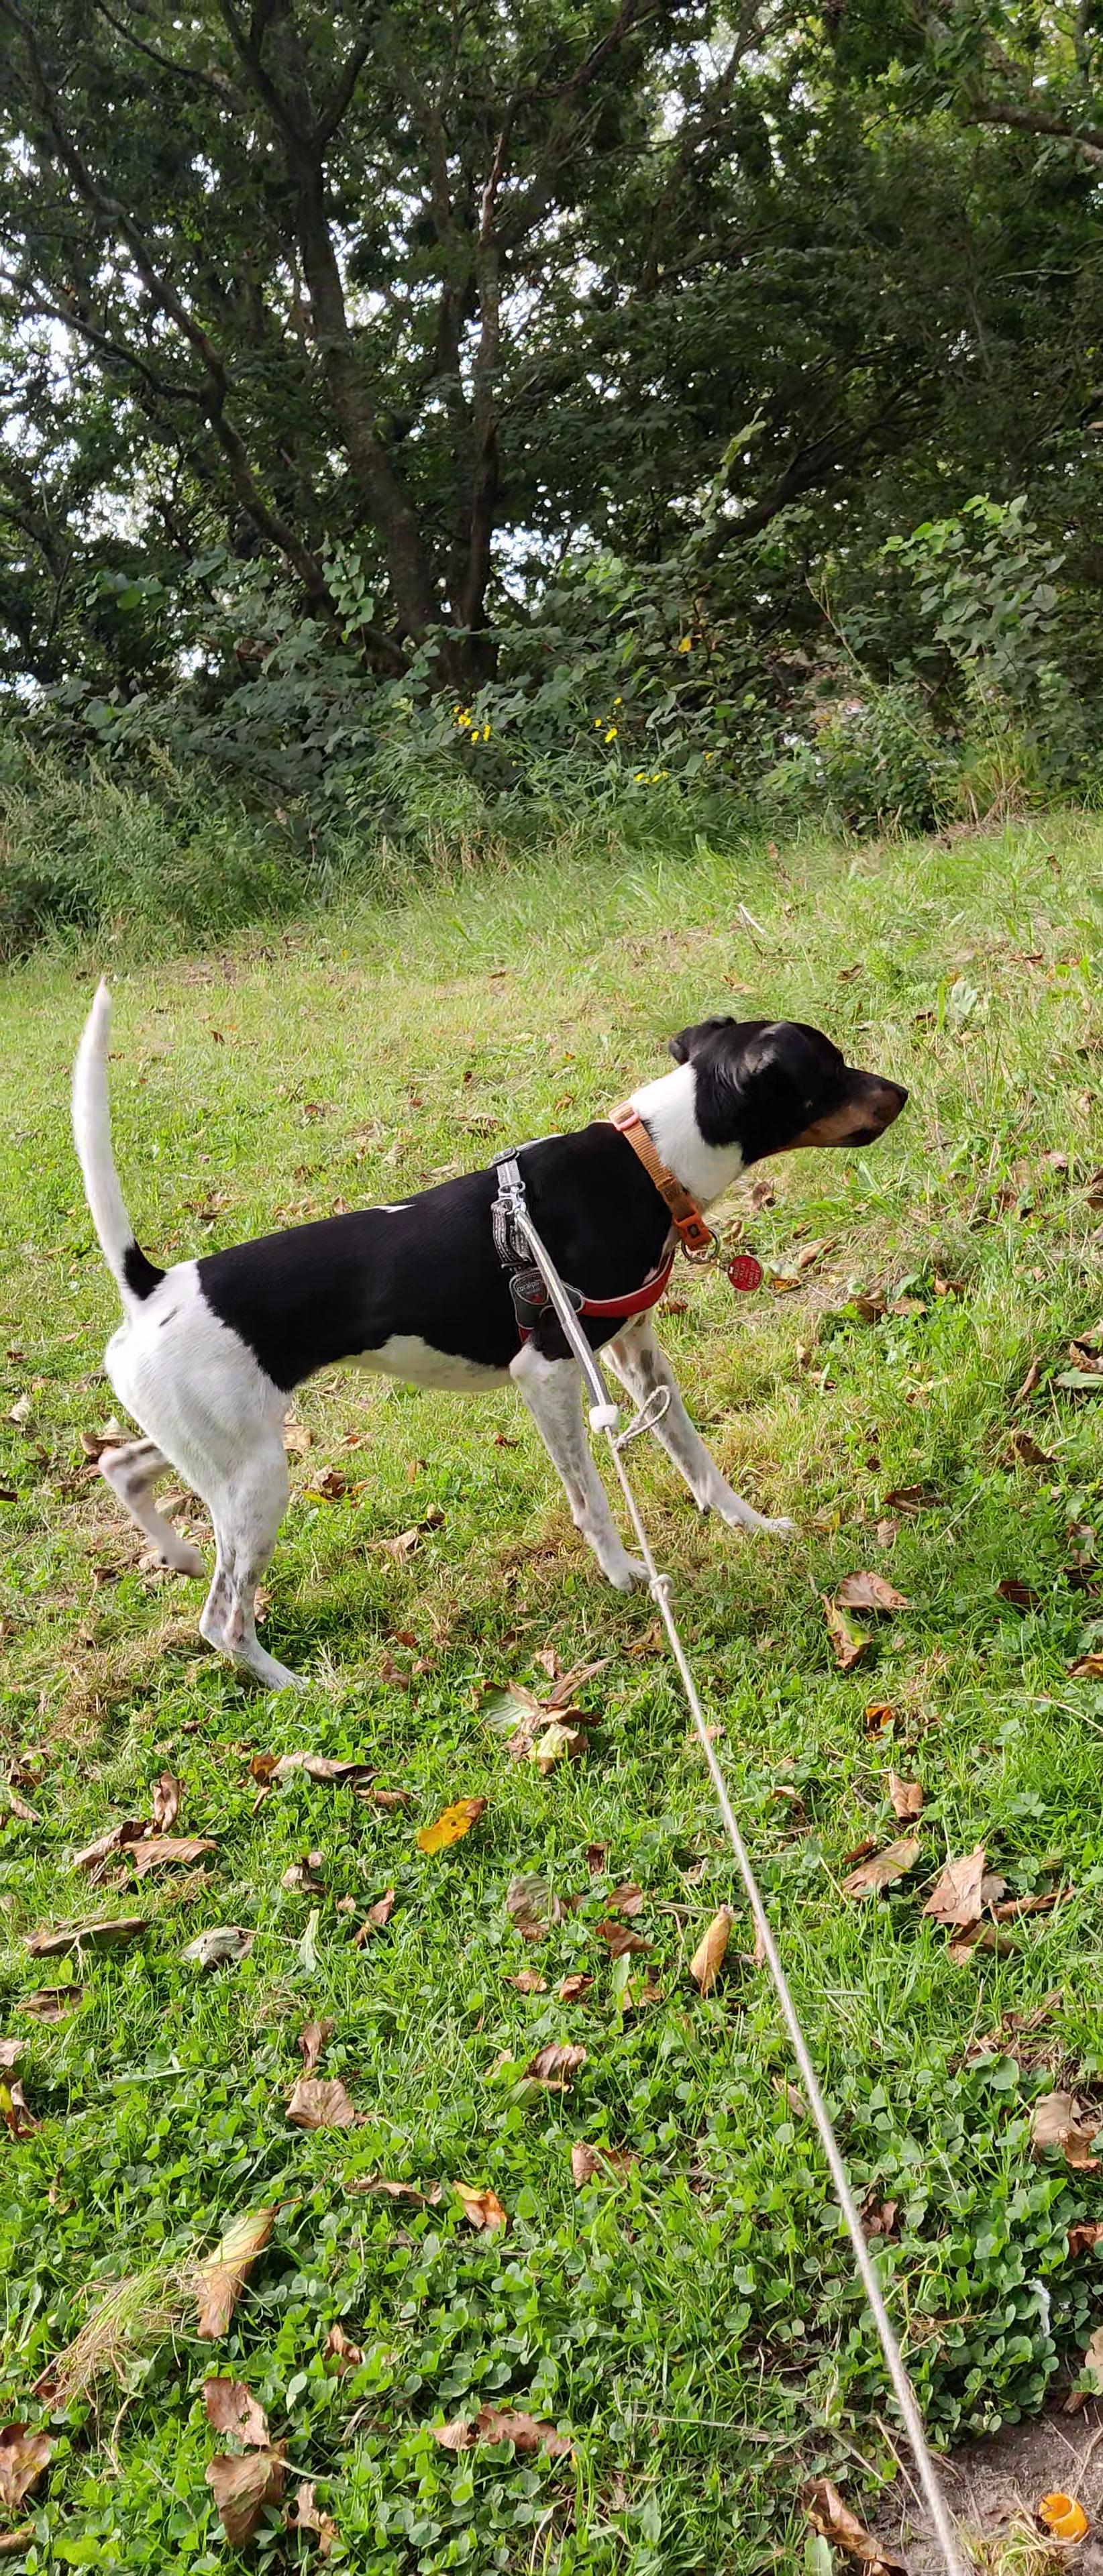Dog: (69, 964, 907, 1692)
